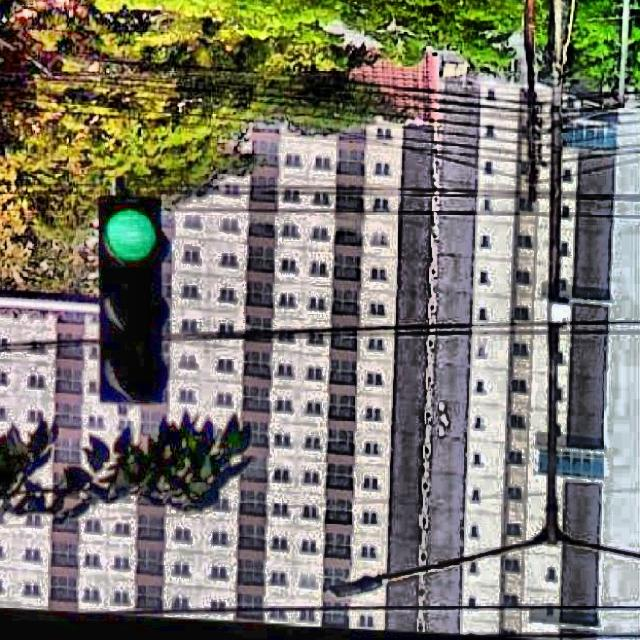green: (97, 190, 178, 404)
